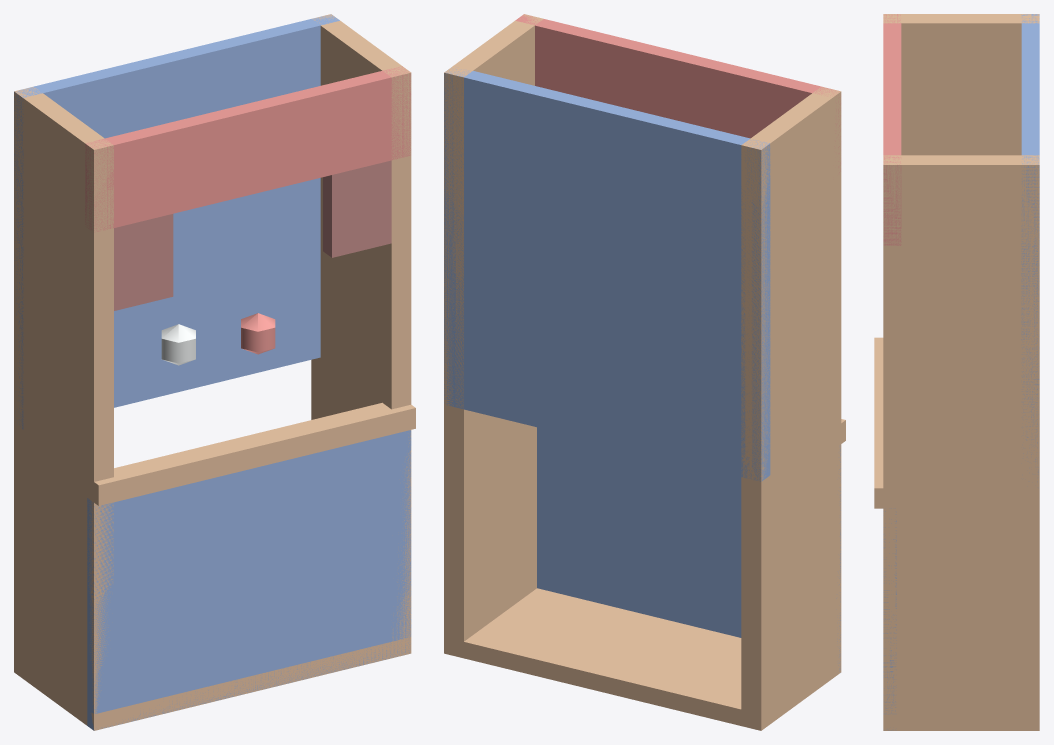
File: puppetTheater.glb
3 renders of one model, left to right at view 1: azimuth 30°, elevation 25°; view 2: azimuth 150°, elevation 25°; view 3: azimuth 270°, elevation 25°, orthographic. The views are drawn at different scales.
Parts seen in each view (by area): view 1: puppetTheater; view 2: puppetTheater; view 3: puppetTheater.
Boxes of the visible parts, bbox=[...] form: puppetTheater: bbox=[14, 14, 415, 730]; puppetTheater: bbox=[444, 14, 845, 730]; puppetTheater: bbox=[874, 14, 1039, 730].
Size of the model in its own units: 0.4 by 0.7 by 0.185.
